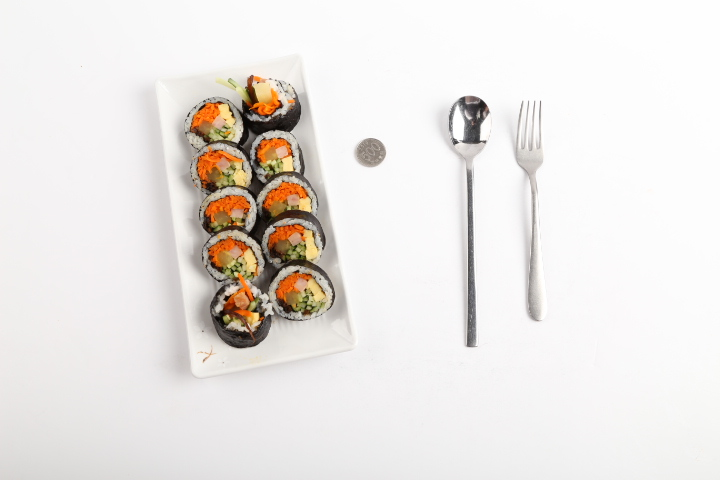dish: (155, 56, 357, 379)
ref_coin: (356, 138, 386, 167)
ref_fork: (516, 100, 544, 177)
ref_spoon: (448, 94, 492, 164)
김밥: (184, 78, 335, 348)
